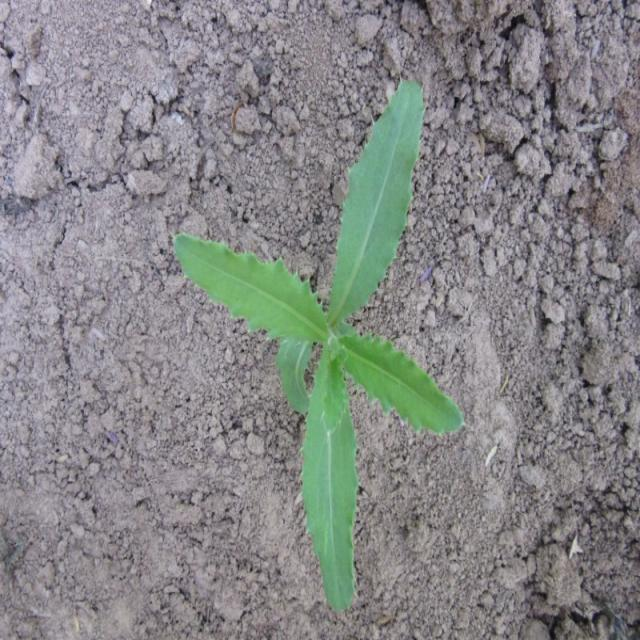field_thistle: (159, 90, 457, 597)
